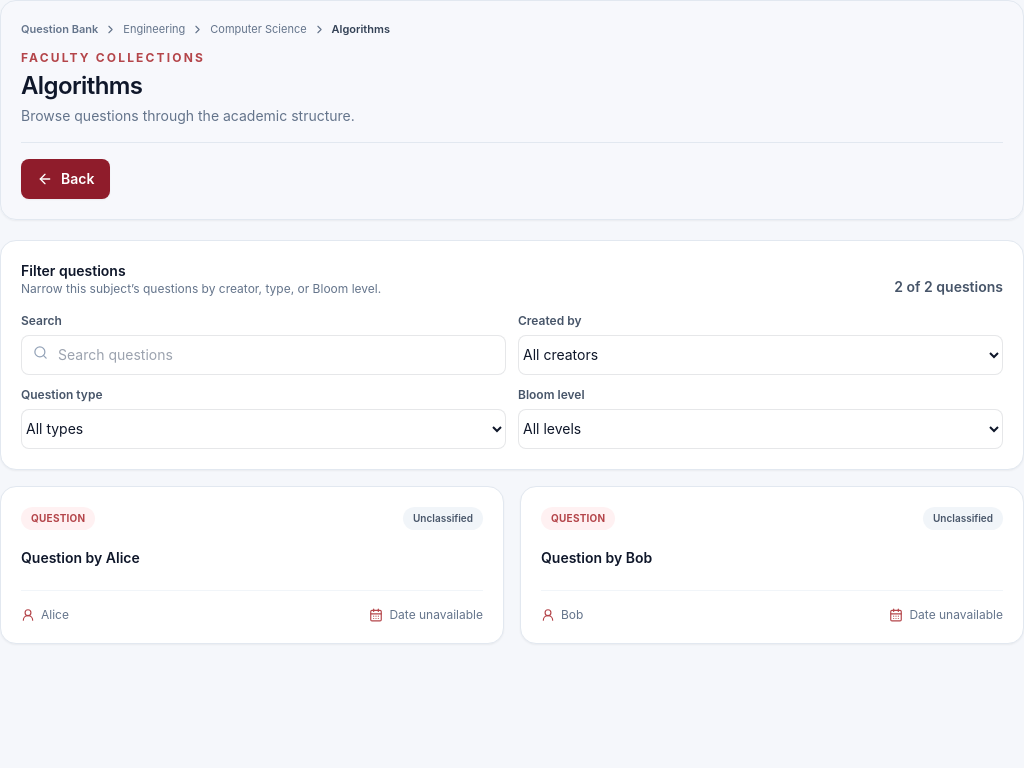
Test: filters subject questions by creator
Check: the heading "Question by Alice" is shown, box [21,548,140,566]
Check: the heading "Question by Bob" is shown, box [541,548,652,566]
Step 1. Select "Alice" in the dropdown labelled "Created by" → (760, 354), box [518,334,1003,374]
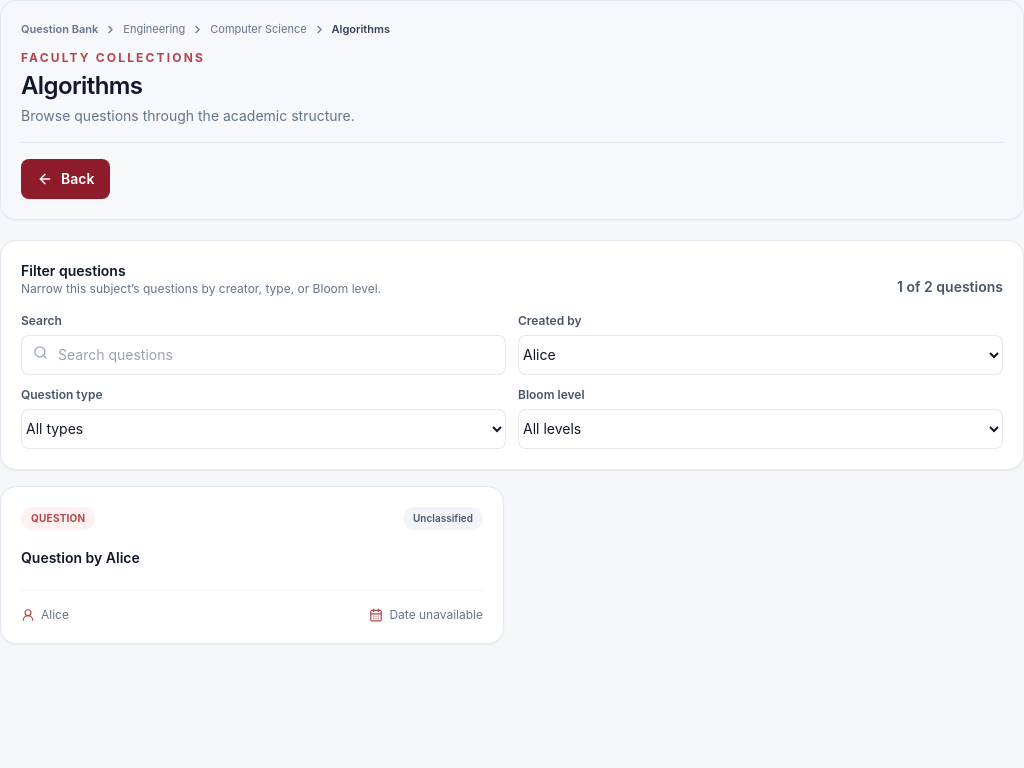
Check: the heading "Question by Alice" is shown, box [21,548,140,566]
Check: the heading "Question by Bob" is gone
